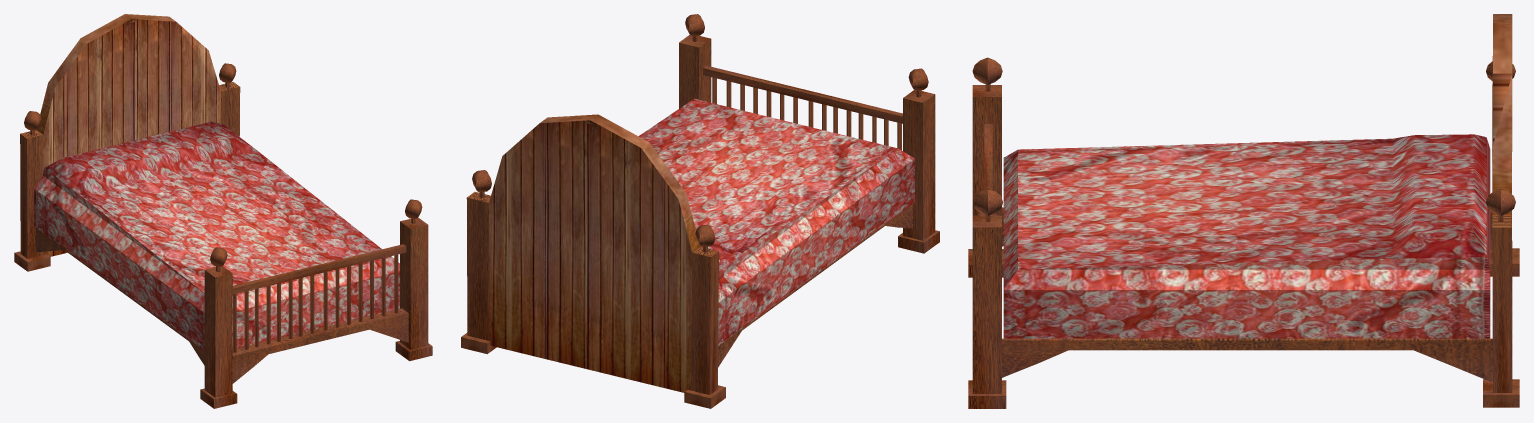
File: bed.obj
3 renders of one model, left to right at view 1: azimuth 30°, elevation 25°; view 2: azimuth 150°, elevation 25°; view 3: azimuth 270°, elevation 25°, orthographic. The views are drawn at different scales.
Parts seen in each view (by area): view 1: br_spread1, bed_1; view 2: bed_1, br_spread1; view 3: br_spread1, bed_1.
Part boxes in pixels (x1=…): br_spread1: x1=34, y1=121, x2=399, y2=350; bed_1: x1=14, y1=14, x2=432, y2=408; bed_1: x1=461, y1=14, x2=939, y2=408; br_spread1: x1=638, y1=98, x2=914, y2=345; br_spread1: x1=1003, y1=134, x2=1490, y2=338; bed_1: x1=968, y1=14, x2=1519, y2=408.
Size of the model in its own units: 72.31 by 71 by 115.
2 materials, 2 textured.
